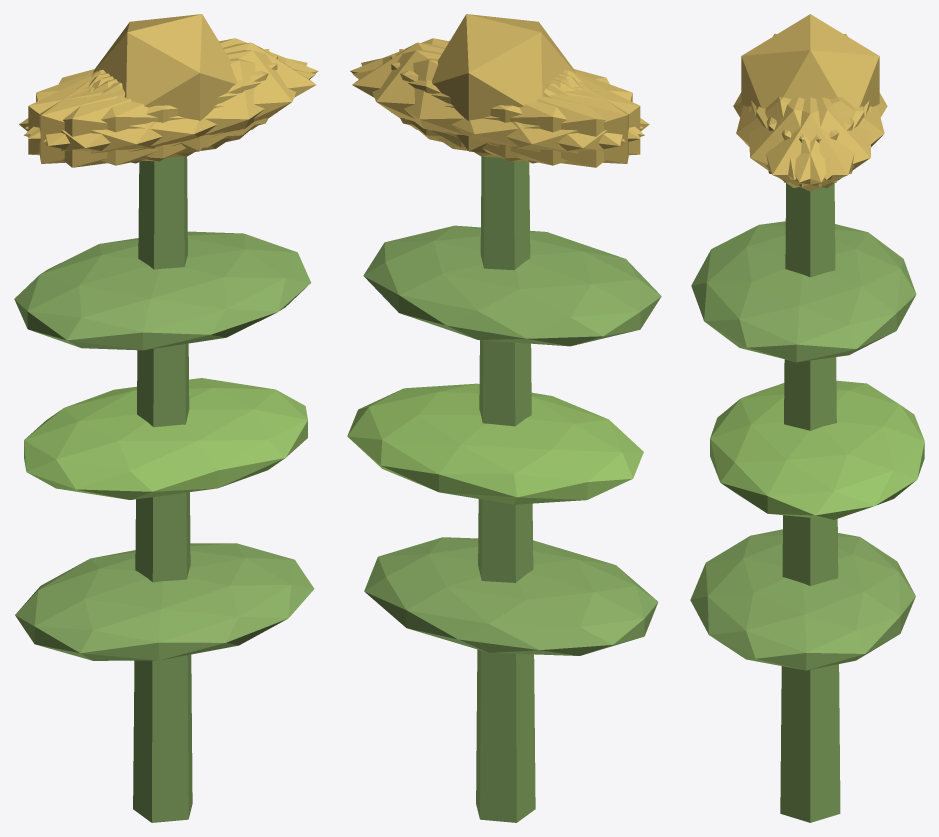
File: pseudostellaria-heterantha.glb
The picture shows the model from 3 angles, left to right: view 1: azimuth 30°, elevation 25°; view 2: azimuth 150°, elevation 25°; view 3: azimuth 270°, elevation 25°; orthographic projection.
Visible parts, largest first — view 1: leaf2, leaf0, leaf1, stem, center, petal1, petal6, petal2, petal5, petal7, petal0, petal4 (+2 smaller); view 2: leaf1, leaf2, leaf0, stem, center, petal8, petal3, petal7, petal4, petal2, petal0, petal5 (+2 smaller); view 3: leaf2, leaf1, leaf0, stem, center, petal0, petal5, petal4, petal1, petal8.
Boxes of the visible parts, x1,y1,x2,y2 form: leaf2: [14, 231, 310, 350]; leaf0: [15, 543, 314, 660]; leaf1: [24, 378, 307, 499]; stem: [133, 156, 192, 822]; center: [92, 14, 236, 153]; petal1: [23, 58, 315, 165]; petal6: [19, 71, 230, 167]; petal2: [39, 49, 269, 163]; petal5: [43, 50, 307, 158]; petal7: [28, 55, 277, 161]; petal0: [92, 42, 316, 147]; petal4: [25, 38, 318, 139]; leaf1: [347, 383, 643, 504]; leaf2: [363, 225, 661, 346]; leaf0: [364, 537, 658, 655]; stem: [476, 156, 535, 822]; center: [432, 14, 575, 153]; petal8: [353, 58, 644, 165]; petal3: [438, 71, 649, 167]; petal7: [399, 49, 628, 163]; petal4: [361, 50, 625, 158]; petal2: [390, 55, 640, 161]; petal0: [352, 42, 576, 147]; petal5: [350, 38, 643, 139]; leaf2: [691, 221, 916, 362]; leaf1: [710, 380, 924, 519]; leaf0: [690, 529, 915, 670]; stem: [780, 183, 840, 822]; center: [741, 14, 879, 108]; petal0: [751, 97, 869, 191]; petal5: [749, 97, 864, 187]; petal4: [756, 97, 871, 187]; petal1: [736, 97, 853, 179]; petal8: [766, 97, 884, 179].
Size of the model in its own units: 0.1452 by 0.38 by 0.1038.
